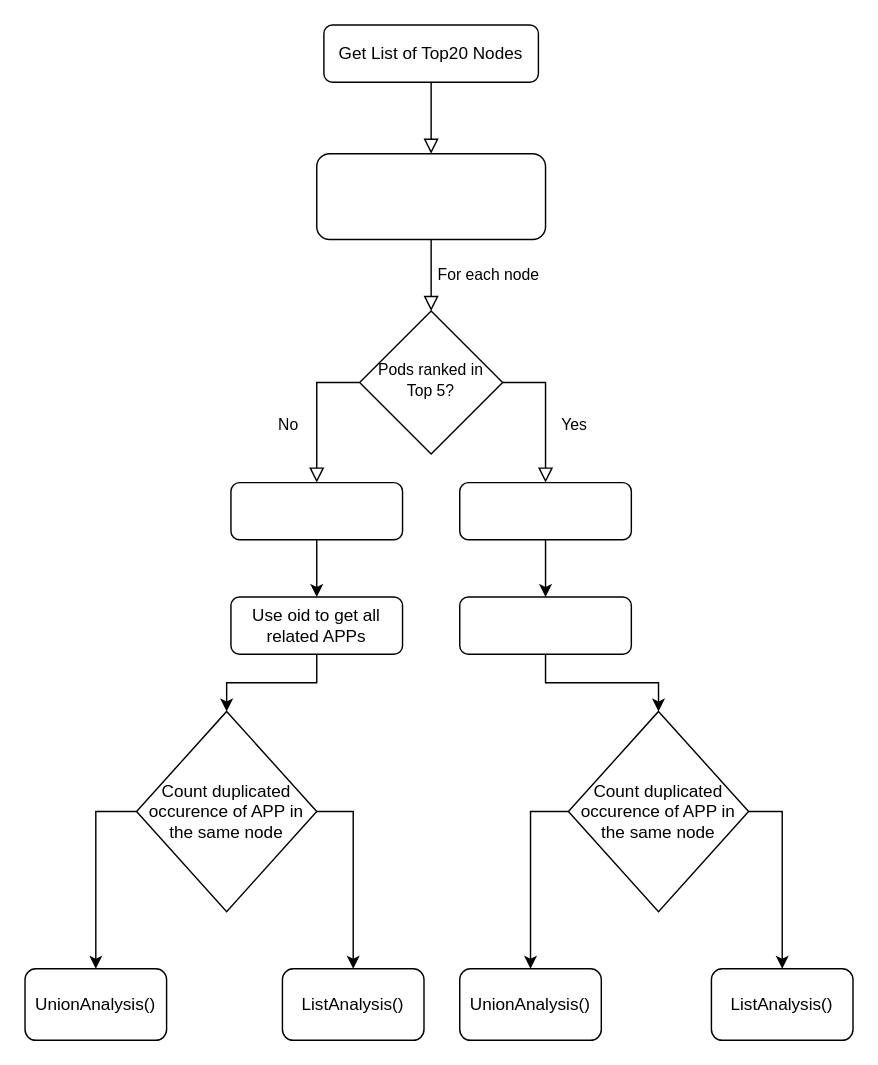
Image size: 878x1065. Some labels were removed from this diagram. Each missing label, with the centre of its shape:
"Gather All Pods" belongs at [316,510].
"Gather All Top-Ranked Pods" belongs at [544,510].
"Run Impact Model on all Top20 Nodes" belongs at [430,196].
"Use oid to get all related Pods" belongs at [544,625].
